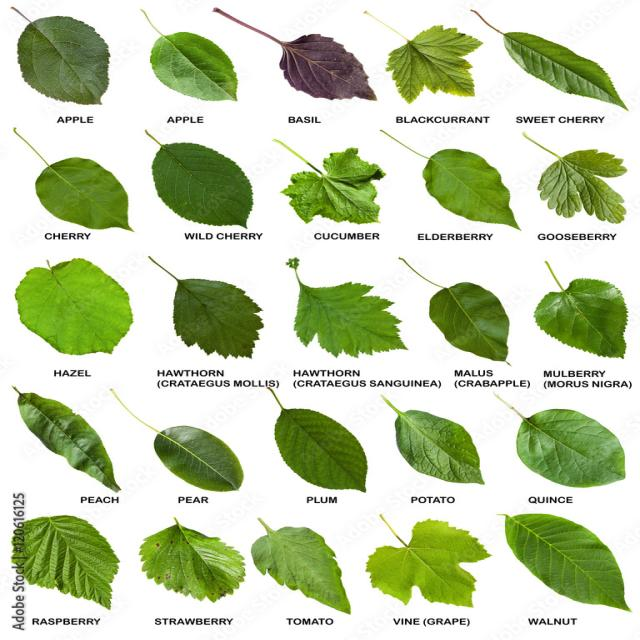leaves: (215, 9, 376, 100), (505, 514, 630, 611), (15, 259, 132, 355), (366, 520, 490, 606), (18, 392, 120, 491), (11, 515, 119, 608), (251, 519, 350, 613), (295, 275, 405, 357), (505, 32, 623, 106), (383, 396, 483, 483), (516, 409, 625, 488), (151, 142, 252, 226), (140, 522, 244, 601), (18, 16, 109, 104), (282, 148, 386, 223), (275, 408, 368, 491), (423, 149, 518, 228), (534, 279, 627, 357), (387, 26, 482, 102), (173, 279, 264, 358), (36, 158, 130, 229), (537, 150, 627, 223), (430, 282, 509, 361), (150, 34, 238, 101), (155, 426, 243, 491)
